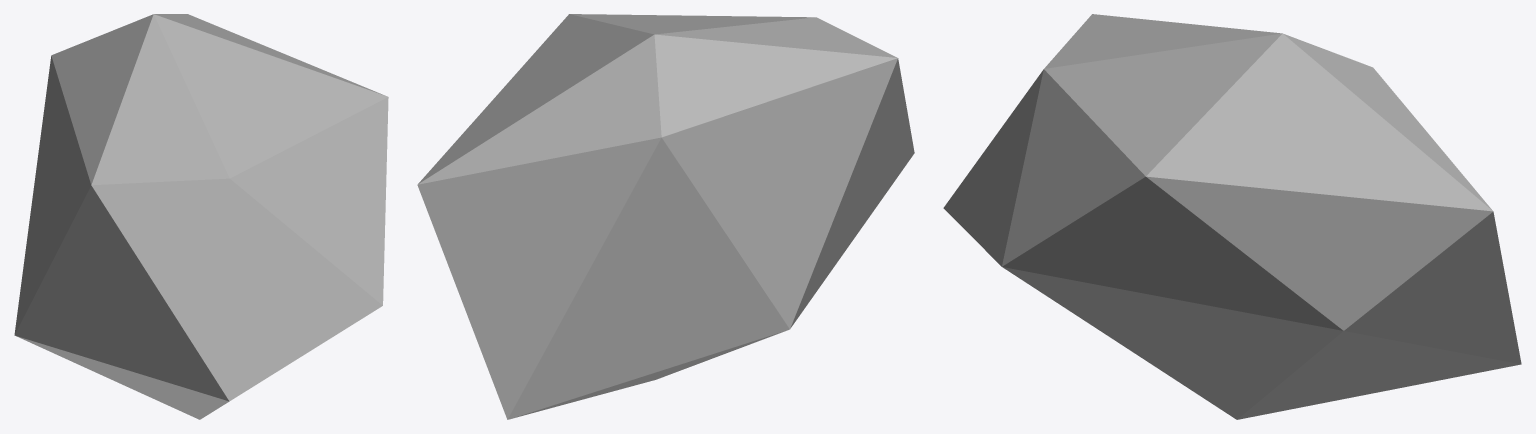
File: stone_001.glb
3 renders of one model, left to right at view 1: azimuth 30°, elevation 25°; view 2: azimuth 150°, elevation 25°; view 3: azimuth 270°, elevation 25°, orthographic. The views are drawn at different scales.
Visible parts, largest first — view 1: stone.001; view 2: stone.001; view 3: stone.001.
Part boxes in pixels (x1,y1,x2,y2): stone.001: (14, 14, 388, 419); stone.001: (417, 14, 914, 419); stone.001: (943, 14, 1521, 419).
Bounding box in the file's own units: 0.1232 × 0.1401 × 0.1952.
Materials: 1 (1 with a texture image).
